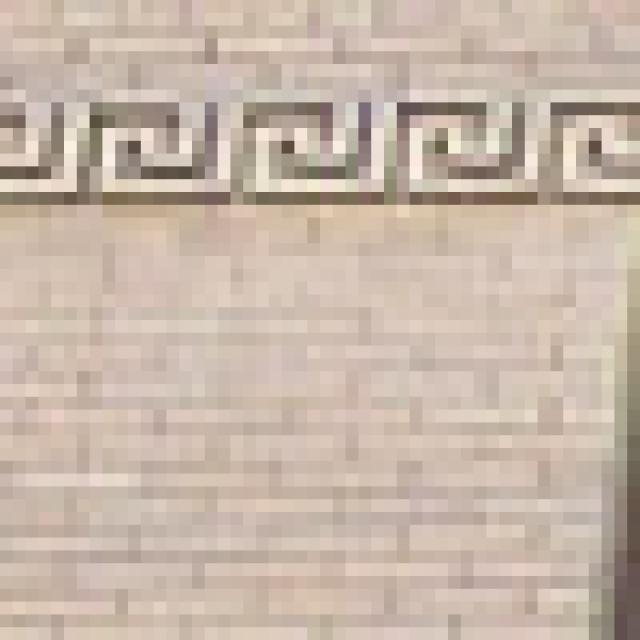no_fire: (13, 0, 640, 525)
